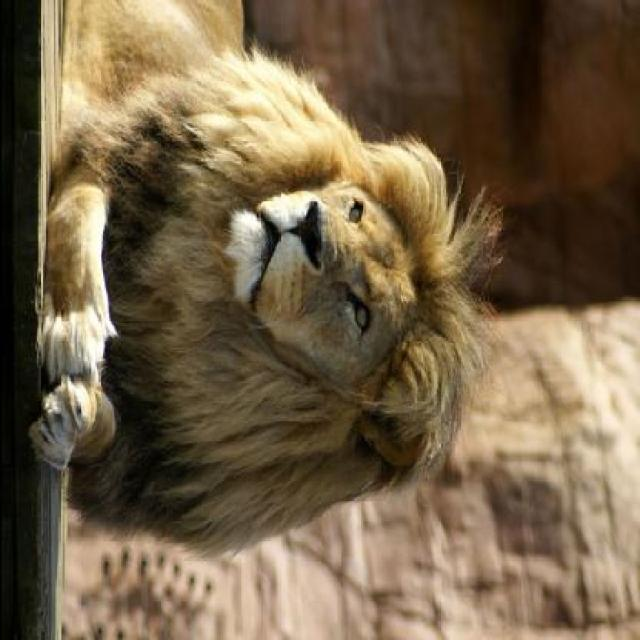Lion: (11, 15, 512, 572)
